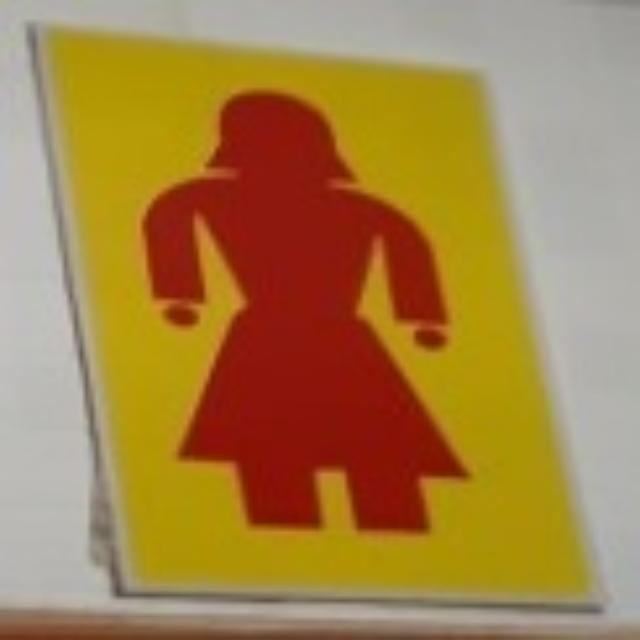wc nu: (31, 26, 593, 598)
